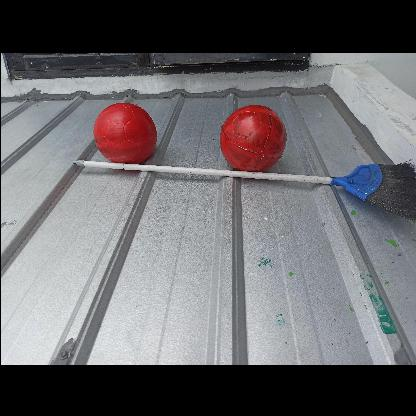red_ball: (217, 101, 285, 169), (92, 103, 154, 165)
